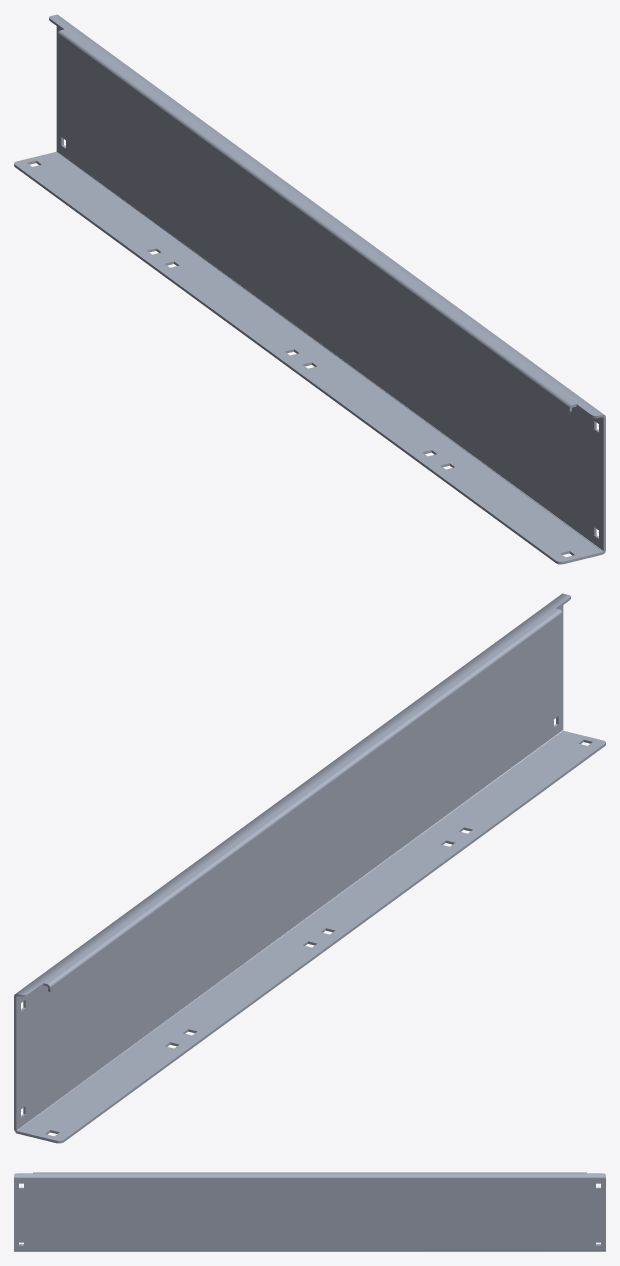
The model's file is XLA40400.glb.
The picture shows the model from 3 angles, top to bottom: view 1: azimuth 30°, elevation 25°; view 2: azimuth 150°, elevation 25°; view 3: azimuth 270°, elevation 25°; orthographic projection. The views are drawn at different scales.
Visible parts, largest first — view 1: A-XLA40400-1; view 2: A-XLA40400-1; view 3: A-XLA40400-1.
Part boxes in pixels (x1=…): A-XLA40400-1: x1=14, y1=14, x2=605, y2=564; A-XLA40400-1: x1=14, y1=593, x2=605, y2=1143; A-XLA40400-1: x1=14, y1=1172, x2=605, y2=1251.
Size of the model in its own units: 0.051 by 0.142 by 1.01.
